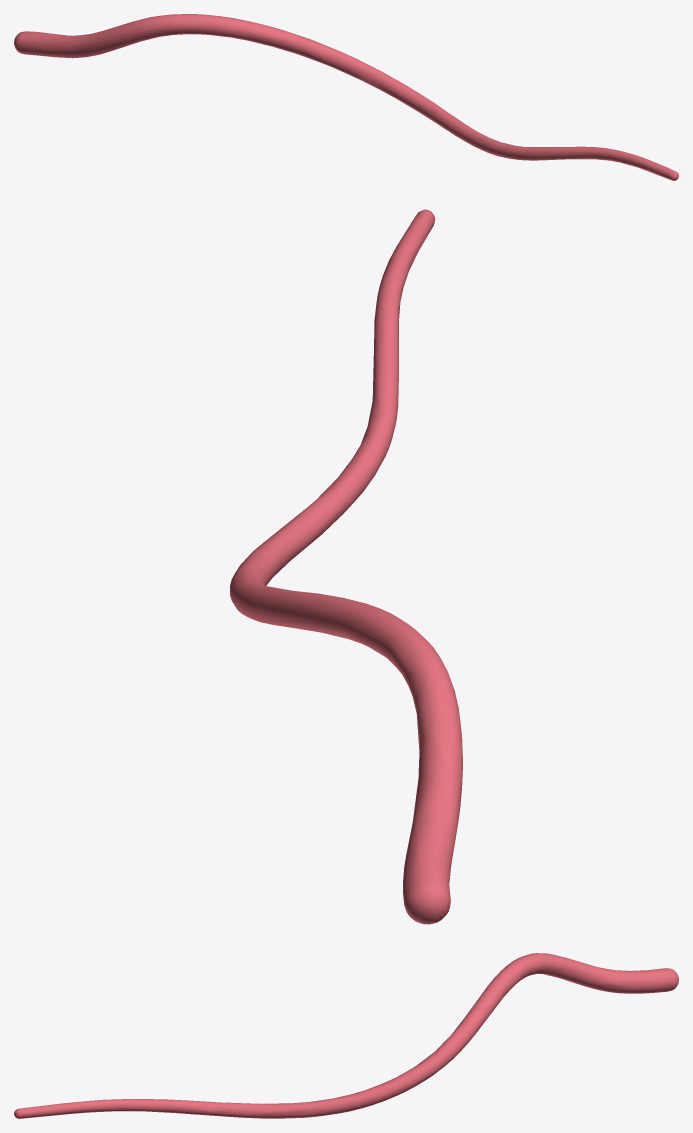
File: fma52565_fj4996.glb
3 views of the same model, one above another, from view 1: azimuth 30°, elevation 25°; view 2: azimuth 150°, elevation 25°; view 3: azimuth 270°, elevation 25° (orthographic). The views are drawn at different scales.
Visible parts, largest first — view 1: FMA52565_FJ4996; view 2: FMA52565_FJ4996; view 3: FMA52565_FJ4996.
Part boxes in pixels (x1=…): FMA52565_FJ4996: x1=14, y1=14, x2=678, y2=180; FMA52565_FJ4996: x1=230, y1=209, x2=462, y2=924; FMA52565_FJ4996: x1=14, y1=953, x2=678, y2=1118.
Bounding box in the file's own units: 0.0296 × 0.00652 × 0.0501.
